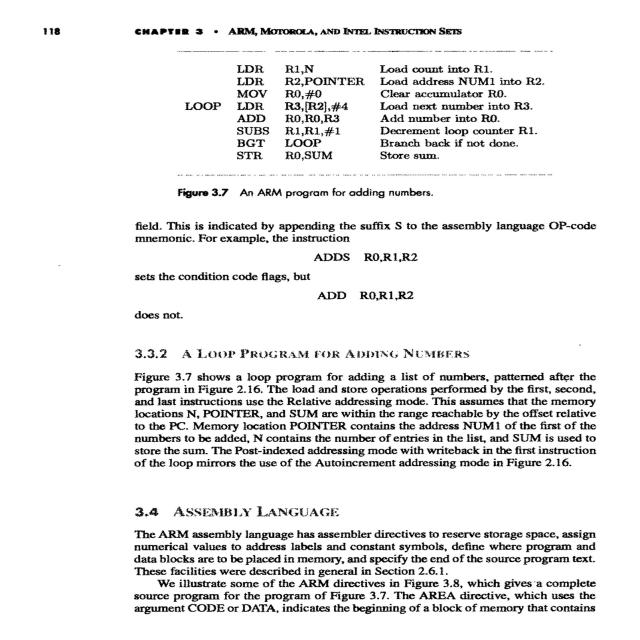diagram: (172, 42, 582, 204)
